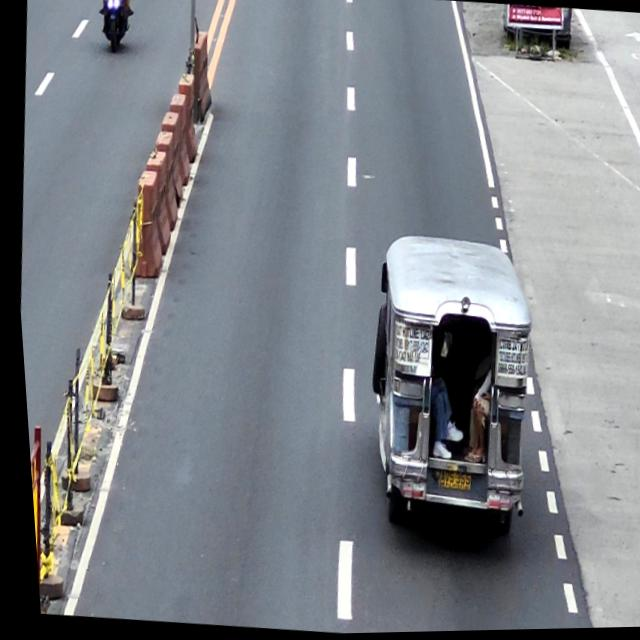Jeep: (346, 230, 545, 543)
License-Plate: (429, 470, 465, 494)
Motorcycle: (97, 0, 133, 54)
